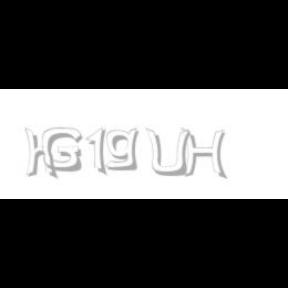1: (85, 128, 107, 176)
G: (42, 128, 82, 172)
H: (181, 128, 227, 180)
U: (144, 128, 190, 178)
g: (106, 128, 142, 171)
h: (24, 128, 60, 180)
